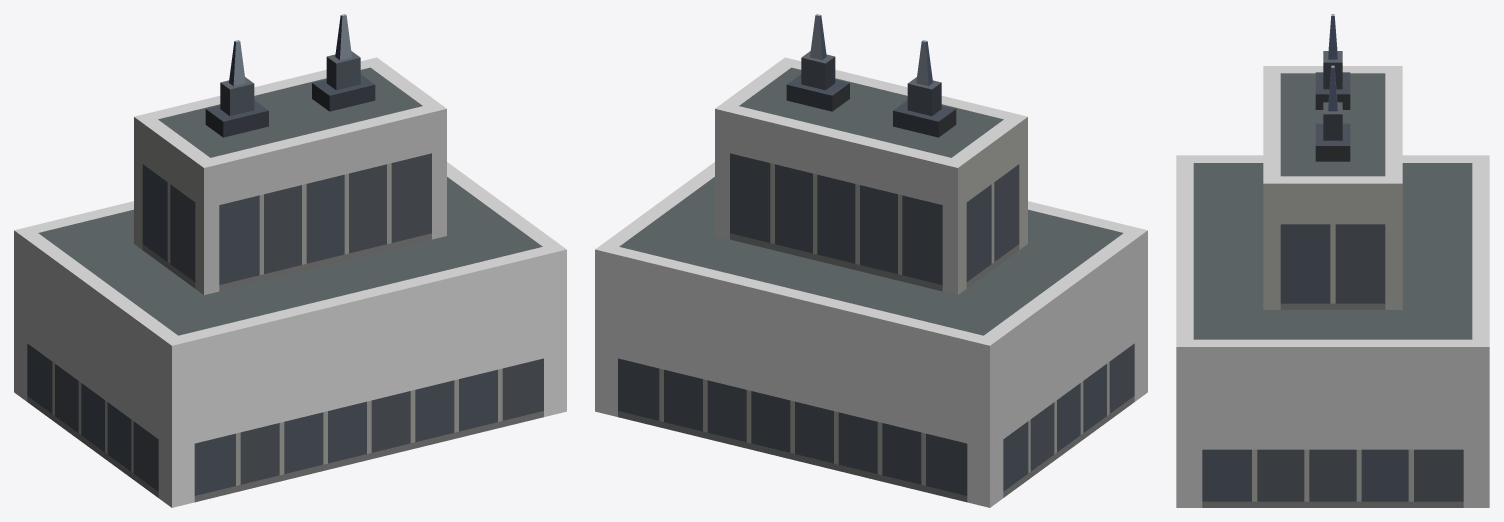
Rendered from TB_CITY_Skysc_A_Top_Gray.FBX.
3 views of the same model, side by side, from view 1: azimuth 30°, elevation 25°; view 2: azimuth 150°, elevation 25°; view 3: azimuth 270°, elevation 25° (orthographic).
Visible parts, largest first — view 1: TB_CITY_Skysc_A_Top_Gray; view 2: TB_CITY_Skysc_A_Top_Gray; view 3: TB_CITY_Skysc_A_Top_Gray.
Boxes of the visible parts, box(x1,y1,x2,y2) form: TB_CITY_Skysc_A_Top_Gray: box(14, 14, 566, 507); TB_CITY_Skysc_A_Top_Gray: box(595, 14, 1147, 507); TB_CITY_Skysc_A_Top_Gray: box(1176, 14, 1489, 507).
Bounding box in the file's own units: 26 × 23.52 × 18.
